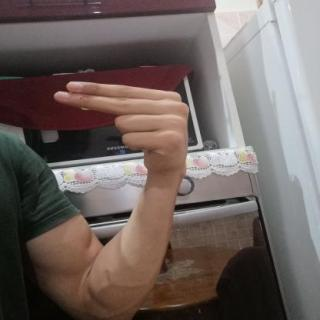AYN: (41, 74, 200, 186)
